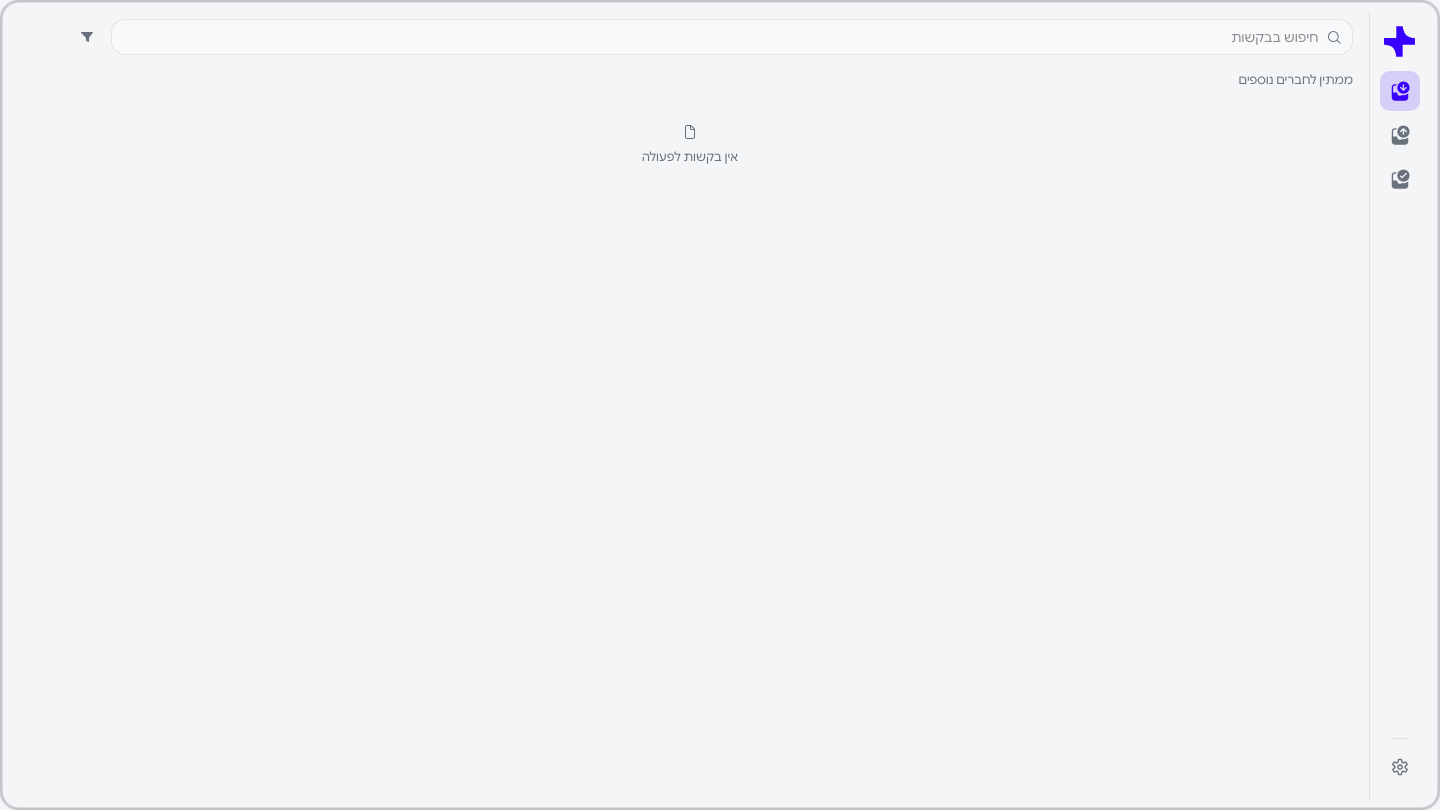
Test: WorkspaceReadyScreen › shows Hebrew member names and isolates the join code
Expected: the text "ממתין לחברים נוספים" is shown, top-left (1238, 72), bottom-right (1353, 87)
Click the button named "הגדרות": (1400, 767) top-left (1380, 747), bottom-right (1420, 787)
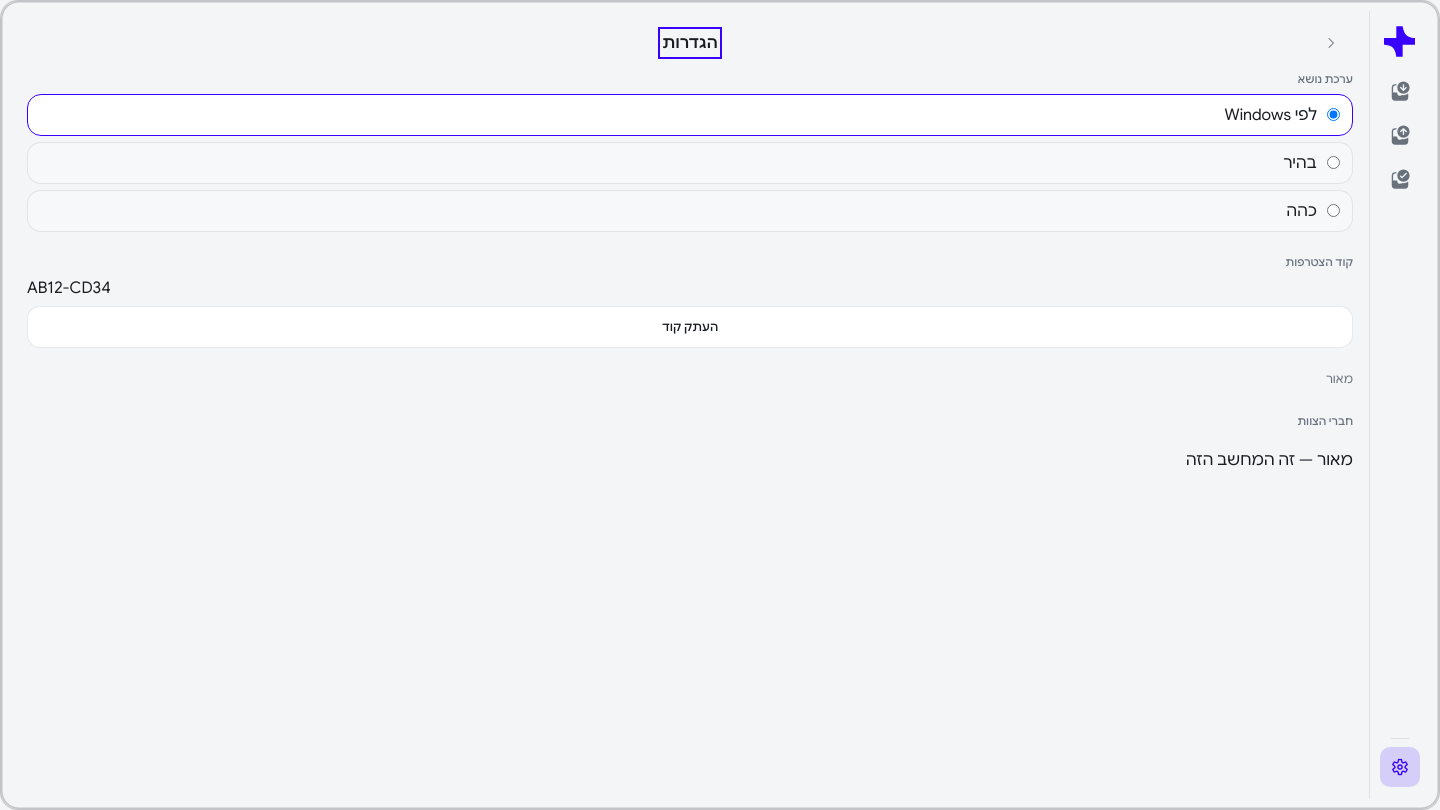
Result: the 1st text "מאור" is shown at top-left (1326, 371), bottom-right (1353, 386)
Result: the text "— זה המחשב הזה" is shown at top-left (1186, 450), bottom-right (1317, 470)
Result: the button "העתק קוד" is shown at top-left (27, 306), bottom-right (1353, 348)
